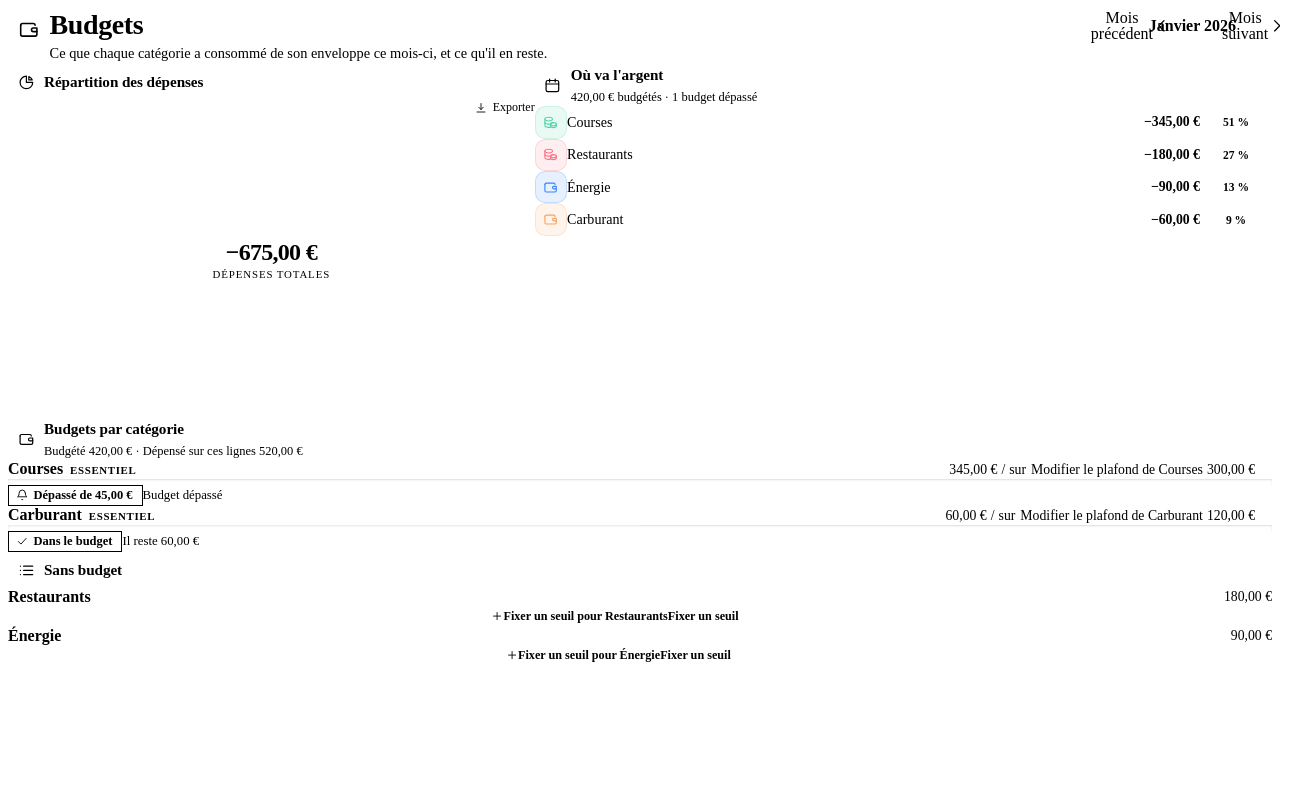
Test: BudgetsPage › refuses an unreadable amount instead of sending a zero
Click the button that starts with "Fixer un seuil pour Restaurants": click(616, 617) [8, 606, 1224, 627]
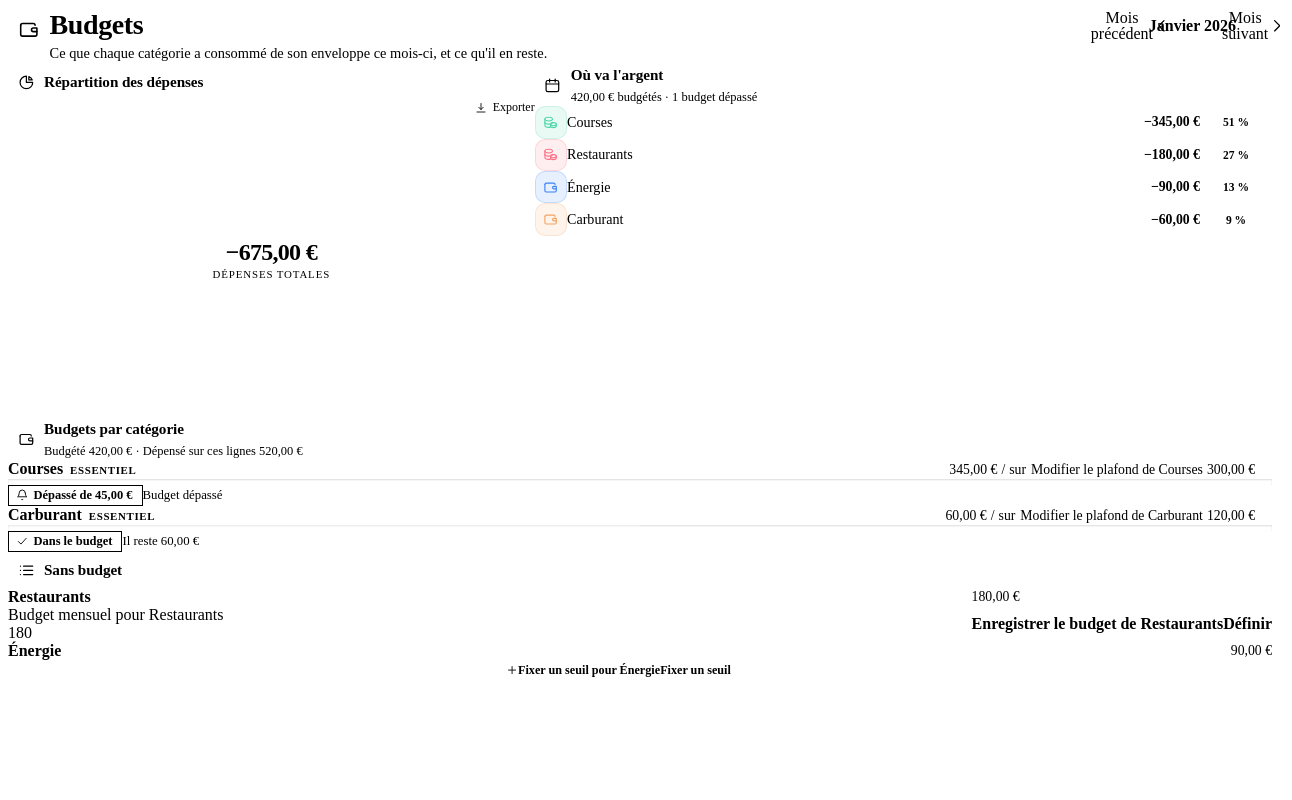
In the field labelled "Budget mensuel pour Restaurants": (490, 633) [8, 624, 972, 642], type "abc"
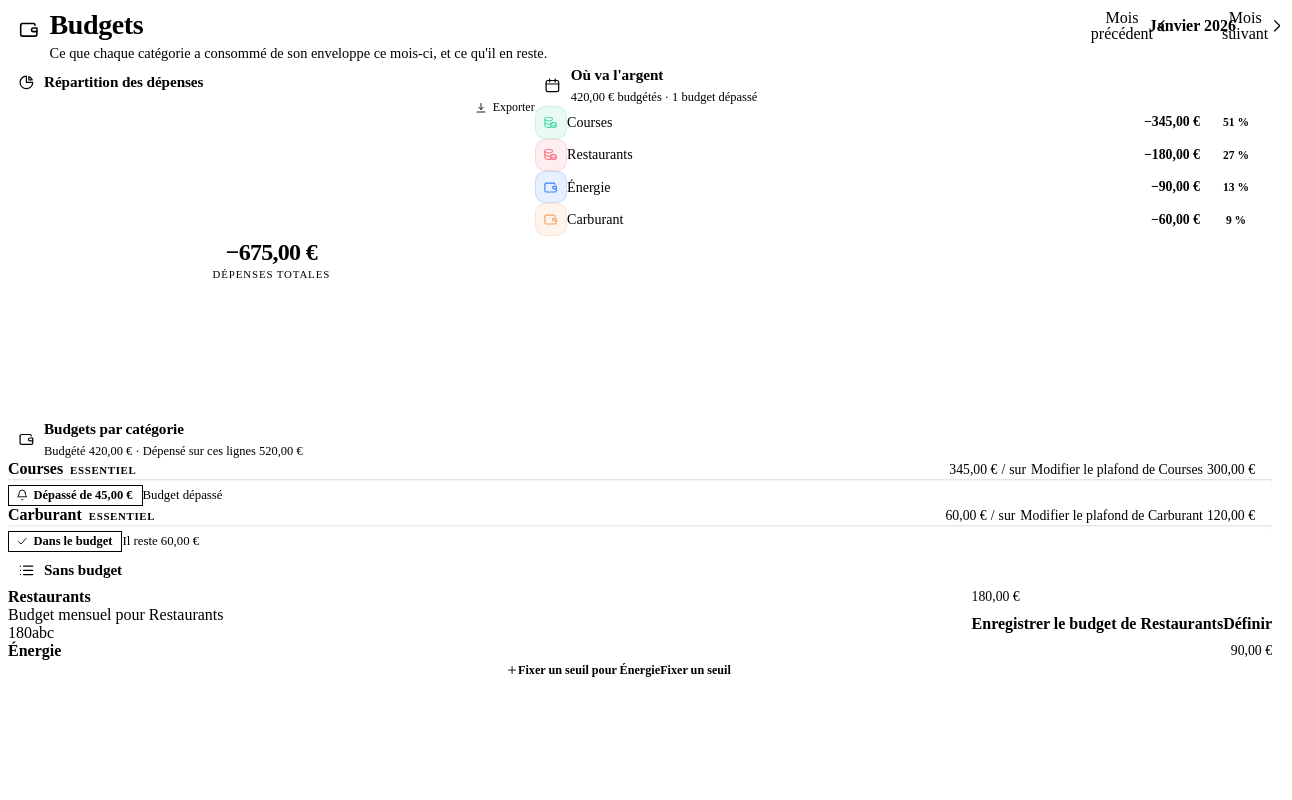
Click the button "Enregistrer le budget de Restaurants": click(1122, 624) [972, 615, 1272, 633]
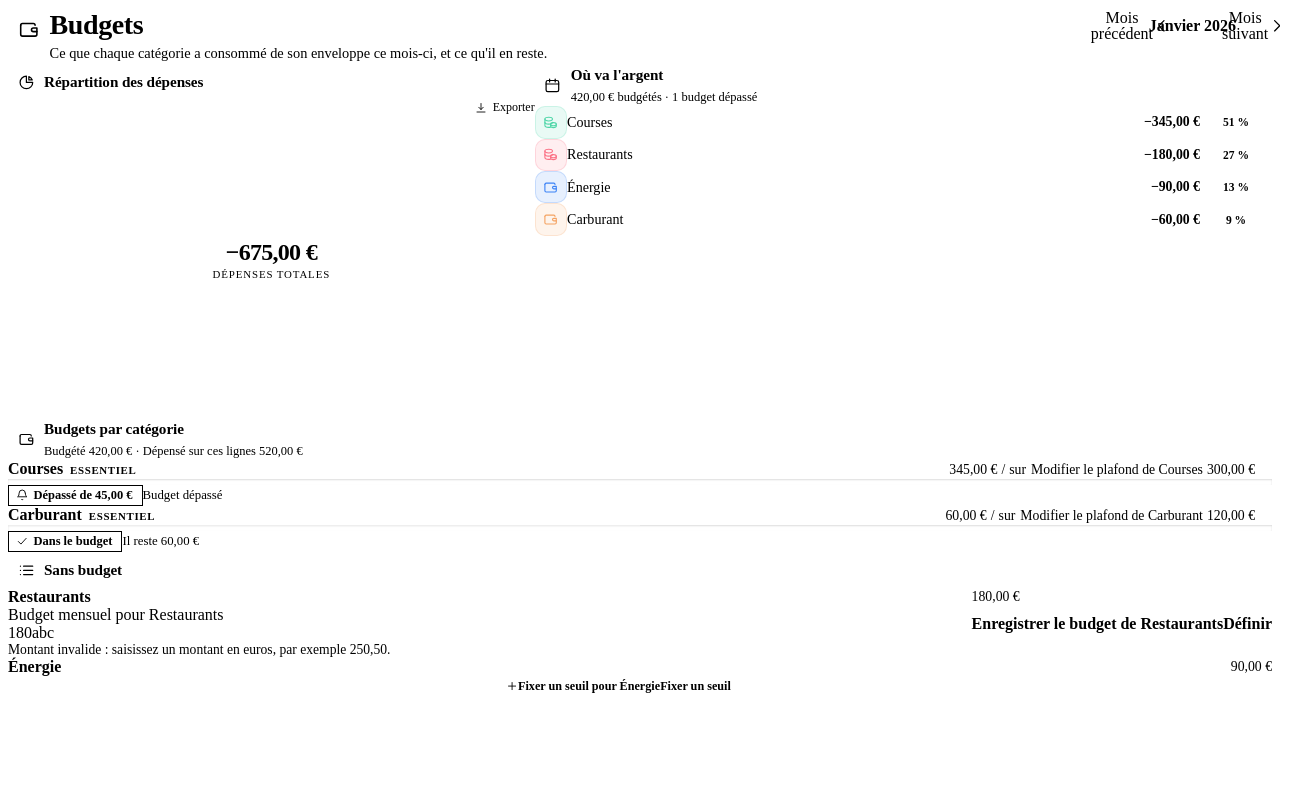
Expected: the message shows "Montant invalide", [8, 642, 390, 657]
